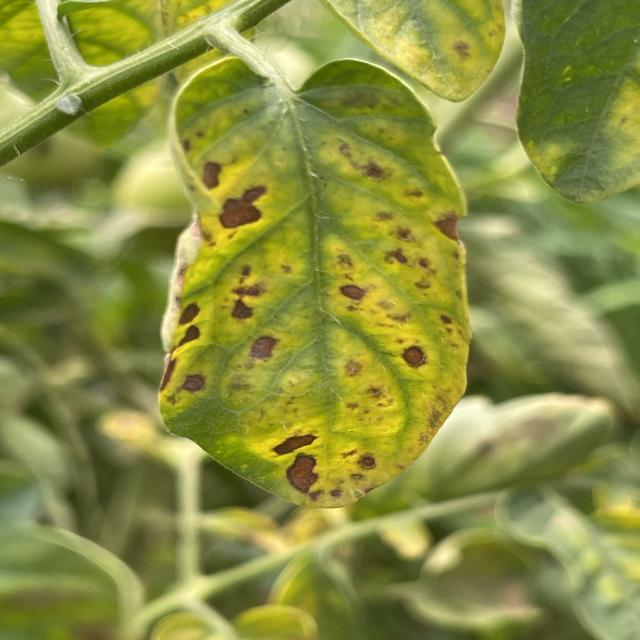tomato_early blight: (161, 49, 470, 512), (0, 0, 223, 139), (508, 2, 640, 205), (324, 0, 507, 107)
